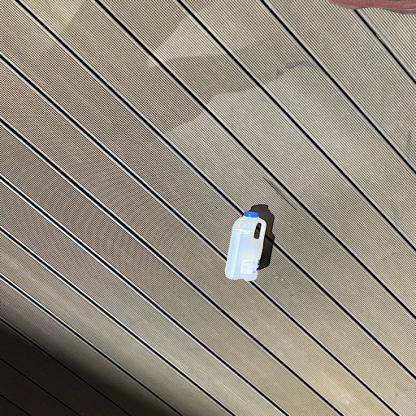trash: (221, 209, 267, 285)
